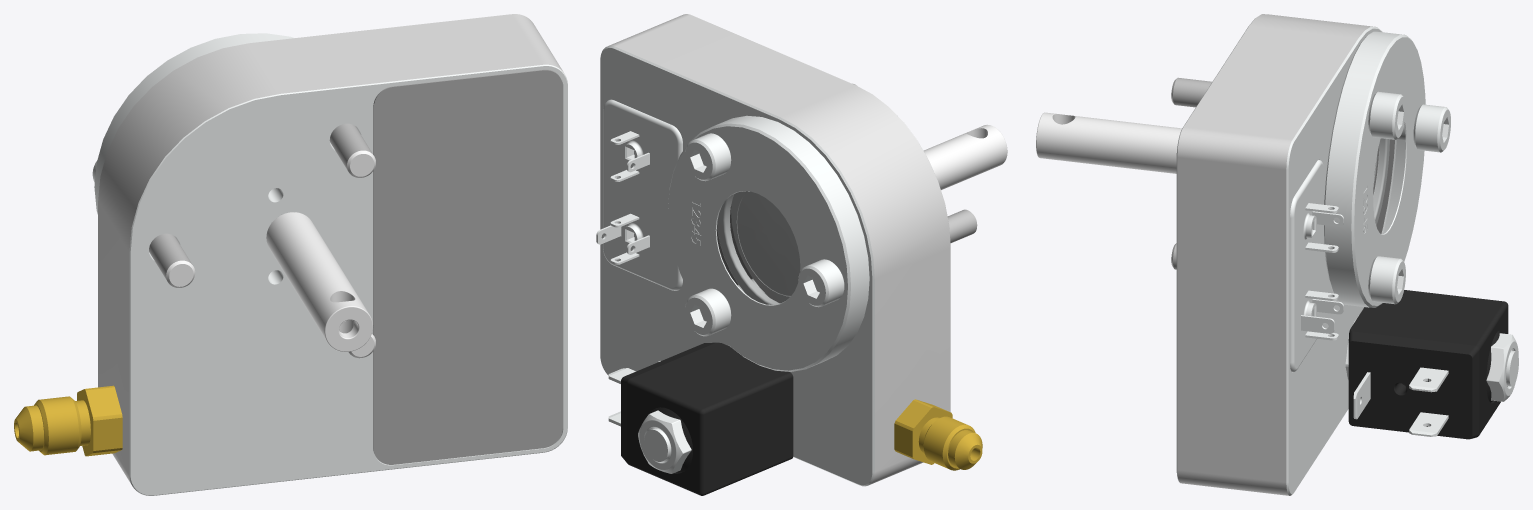
3 views of the same model, side by side, from view 1: azimuth 30°, elevation 25°; view 2: azimuth 150°, elevation 25°; view 3: azimuth 270°, elevation 25° (orthographic). The views are drawn at different scales.
Parts seen in each view (by area): view 1: BASE_UNIT-3D-Correct coil direction, BASE_UNIT-3D-Correct coil direction.006, BASE_UNIT-3D-Correct coil direction.001, BASE_UNIT-3D-Correct coil direction.003, BASE_UNIT-3D-Correct coil direction.005; view 2: BASE_UNIT-3D-Correct coil direction, BASE_UNIT-3D-Correct coil direction.006, BASE_UNIT-3D-Correct coil direction.002, BASE_UNIT-3D-Correct coil direction.003, BASE_UNIT-3D-Correct coil direction.001, BASE_UNIT-3D-Correct coil direction.005; view 3: BASE_UNIT-3D-Correct coil direction, BASE_UNIT-3D-Correct coil direction.006, BASE_UNIT-3D-Correct coil direction.001, BASE_UNIT-3D-Correct coil direction.002, BASE_UNIT-3D-Correct coil direction.005.
Boxes of the visible parts, x1,y1,x2,y2 form: BASE_UNIT-3D-Correct coil direction: (92,33,567,495); BASE_UNIT-3D-Correct coil direction.006: (98,14,563,484); BASE_UNIT-3D-Correct coil direction.001: (266,212,373,351); BASE_UNIT-3D-Correct coil direction.003: (14,385,122,456); BASE_UNIT-3D-Correct coil direction.005: (149,123,375,358); BASE_UNIT-3D-Correct coil direction: (596,45,948,495); BASE_UNIT-3D-Correct coil direction.006: (609,14,950,484); BASE_UNIT-3D-Correct coil direction.002: (717,191,799,304); BASE_UNIT-3D-Correct coil direction.003: (894,399,982,470); BASE_UNIT-3D-Correct coil direction.001: (923,124,1007,189); BASE_UNIT-3D-Correct coil direction.005: (852,83,977,242); BASE_UNIT-3D-Correct coil direction: (1176,19,1518,495); BASE_UNIT-3D-Correct coil direction.006: (1177,14,1394,495); BASE_UNIT-3D-Correct coil direction.001: (1036,112,1181,173); BASE_UNIT-3D-Correct coil direction.002: (1373,126,1405,233); BASE_UNIT-3D-Correct coil direction.005: (1171,77,1212,269).
Size of the model in its own units: 0.6006 by 0.4638 by 0.5732.
